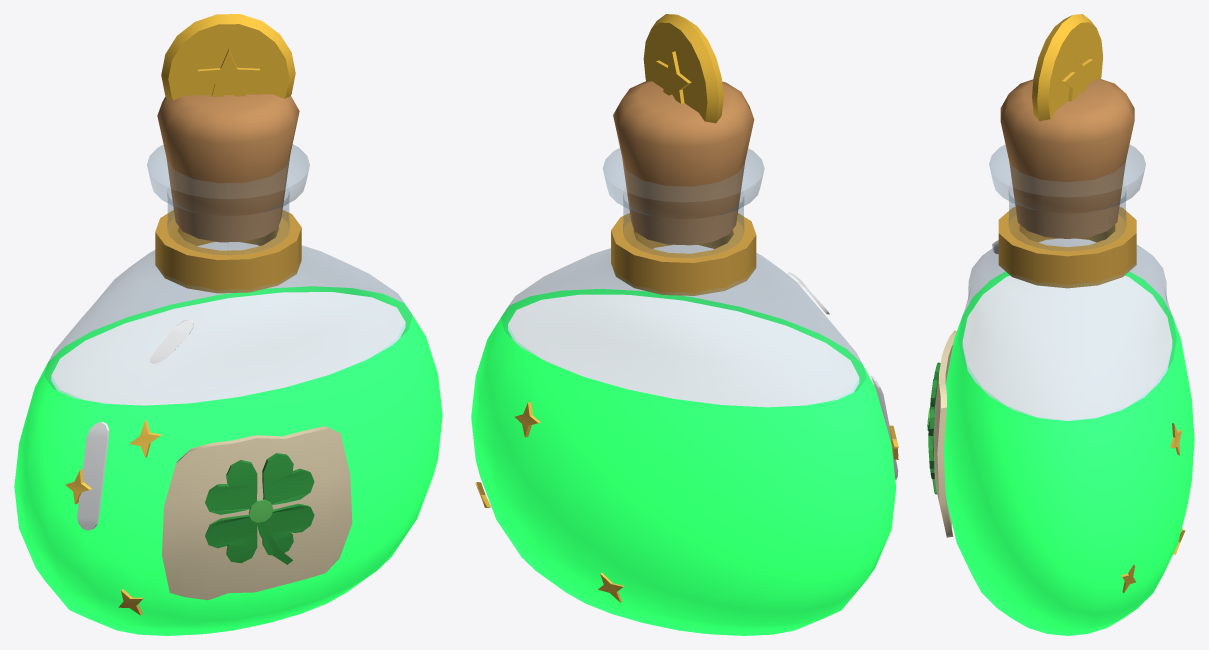
The model's file is item_fortune_tonic.glb.
3 renders of one model, left to right at view 1: azimuth 30°, elevation 25°; view 2: azimuth 150°, elevation 25°; view 3: azimuth 270°, elevation 25°, orthographic. The views are drawn at different scales.
Parts seen in each view (by area): view 1: FortuneTonic; view 2: FortuneTonic; view 3: FortuneTonic.
Boxes of the visible parts, x1,y1,x2,y2 form: FortuneTonic: [14, 14, 442, 635]; FortuneTonic: [471, 14, 898, 635]; FortuneTonic: [927, 14, 1194, 635].
Size of the model in its own units: 0.2161 by 0.3 by 0.1273.
